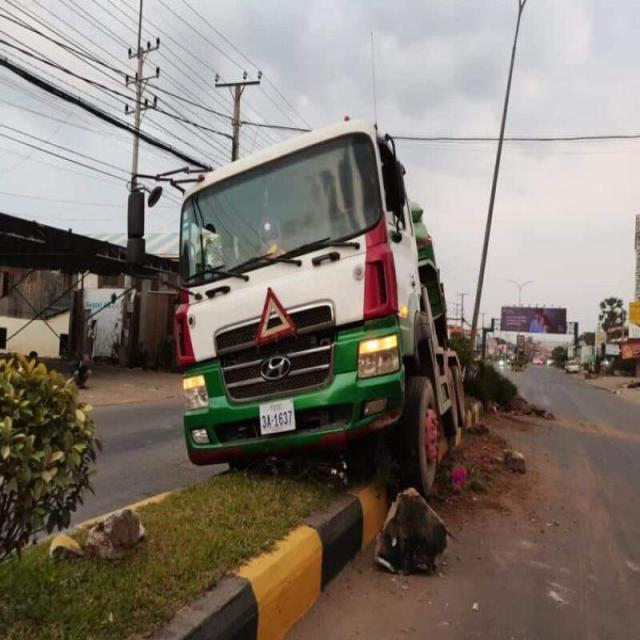Kampot: (270, 403, 282, 411)
